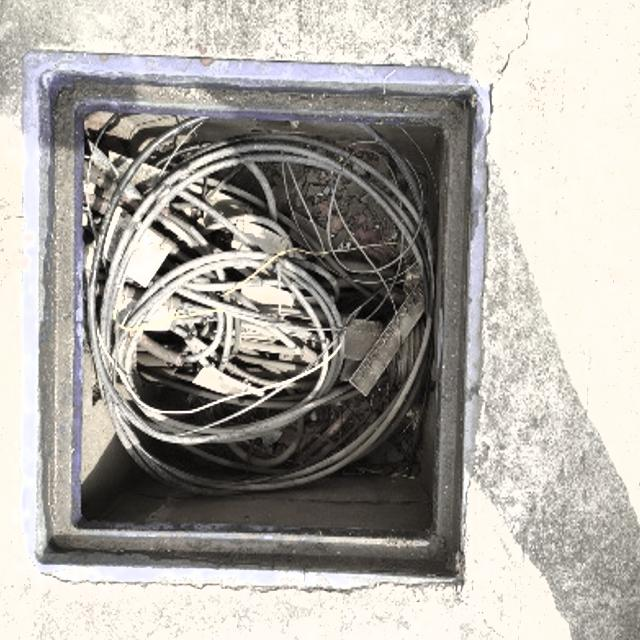lose: (23, 51, 492, 591)
